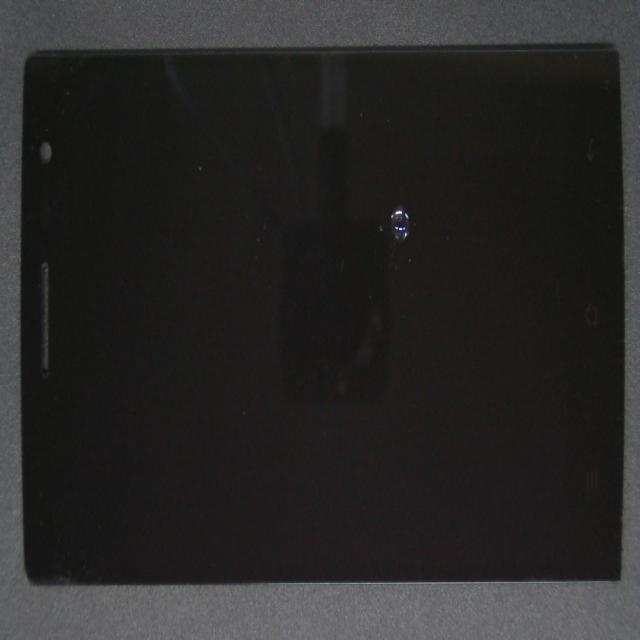oil: (214, 146, 617, 328)
